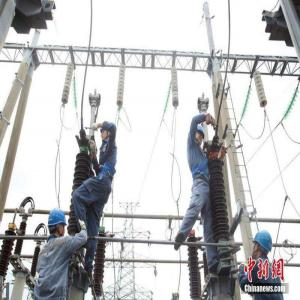blue: (47, 208, 69, 241), (253, 229, 274, 262), (195, 120, 206, 146)
